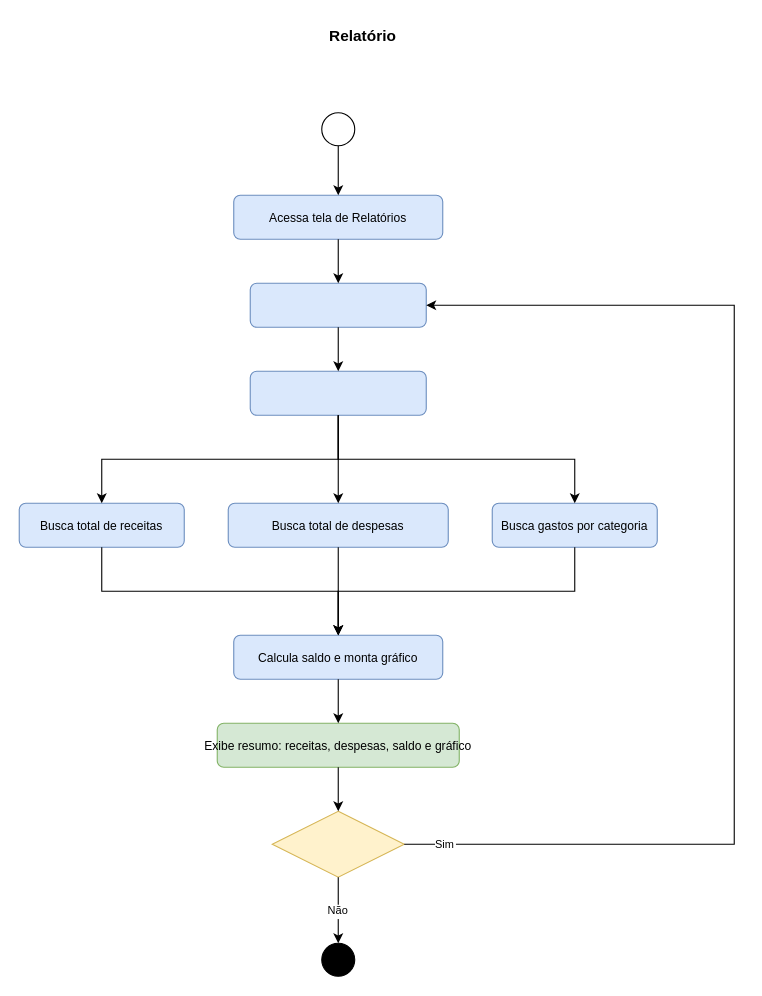
The diagram is 762 pixels wide and 996 high, and some of its shapes have lost their labels. Each missing label, with the centre of its shape:
"Outro período?" goes at [337,843].
"Seleciona mês e ano" goes at [337,304].
"Solicita relatório" goes at [337,392].
